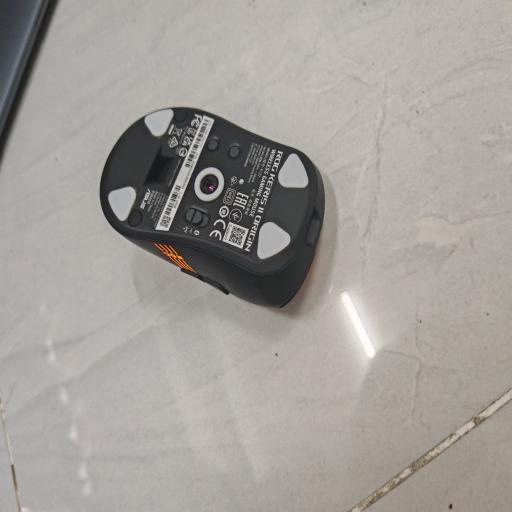mouse: (100, 107, 324, 307)
